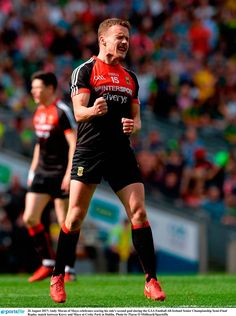player: (59, 18, 166, 296), (27, 67, 66, 284)
